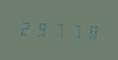eight: (82, 21, 97, 41)
nine: (34, 18, 49, 39)
seven: (50, 19, 65, 40), (66, 20, 81, 41)
two: (18, 17, 33, 38)
